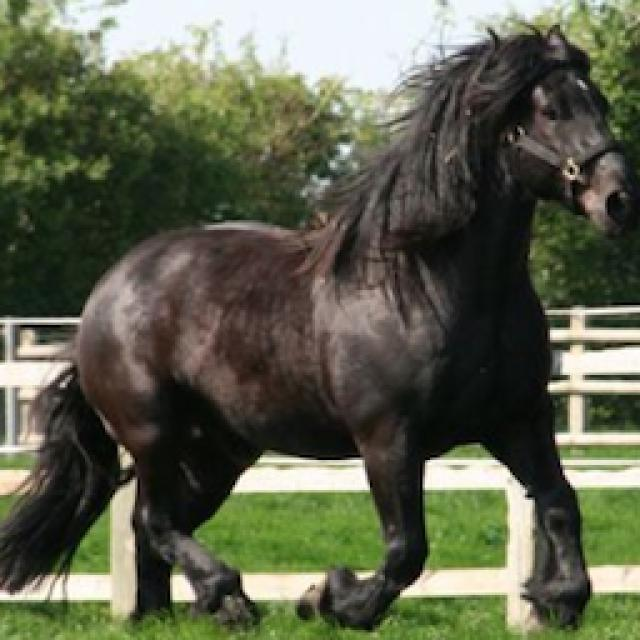Horse: (0, 18, 638, 638)
